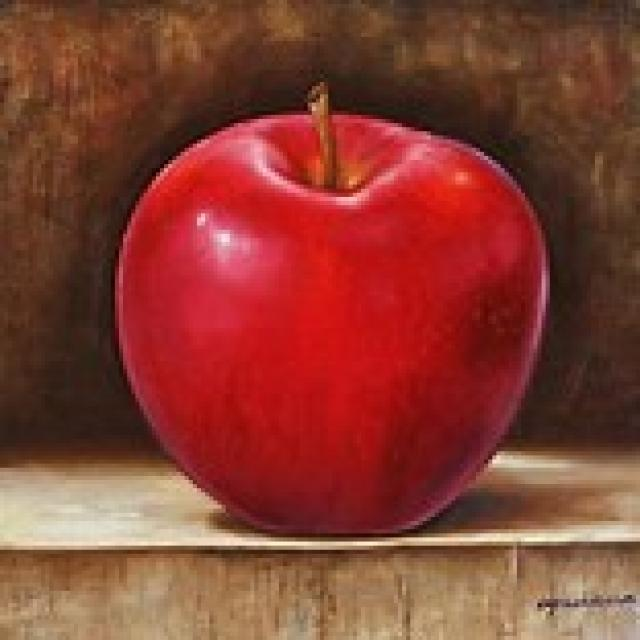Apple: (116, 78, 548, 545)
